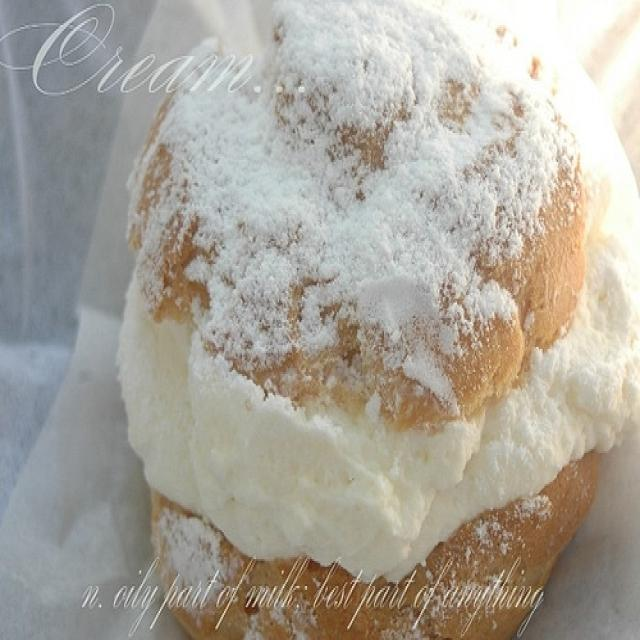炸货点心: (109, 52, 626, 623)
蛋糕甜品: (109, 52, 626, 623)
